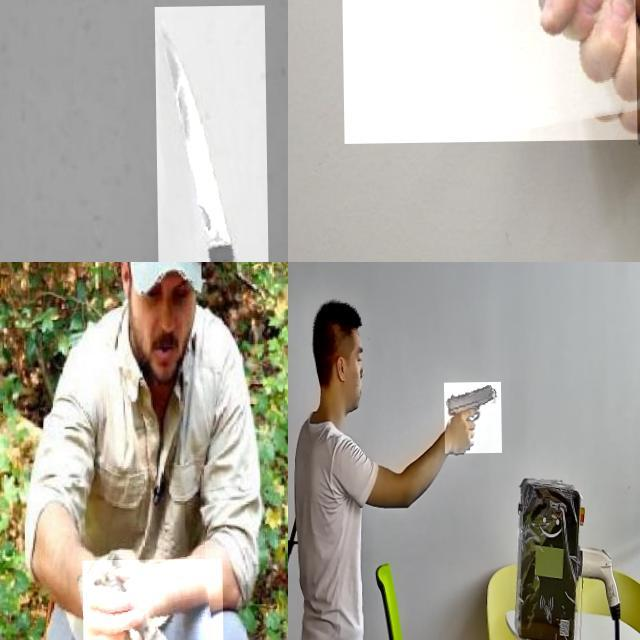-: (338, 0, 636, 206), (154, 6, 269, 262), (81, 559, 223, 640)
gun-knife-thesis - v11 Yolov5 augmented: (444, 383, 501, 455)
